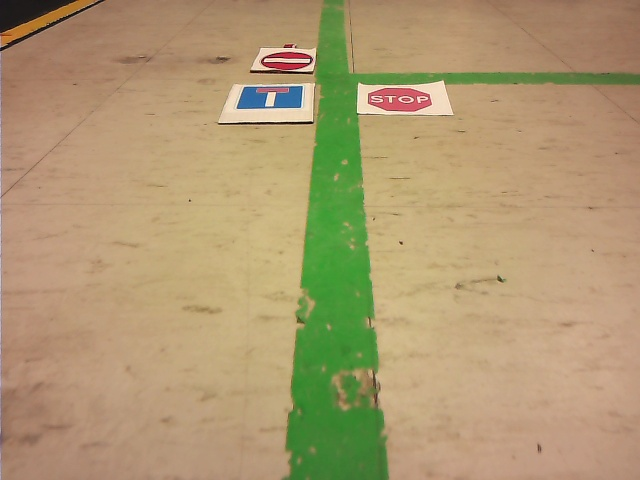DEAD END: (237, 86, 303, 109)
NO ENTRY: (260, 50, 313, 70)
STOP: (368, 87, 432, 111)
